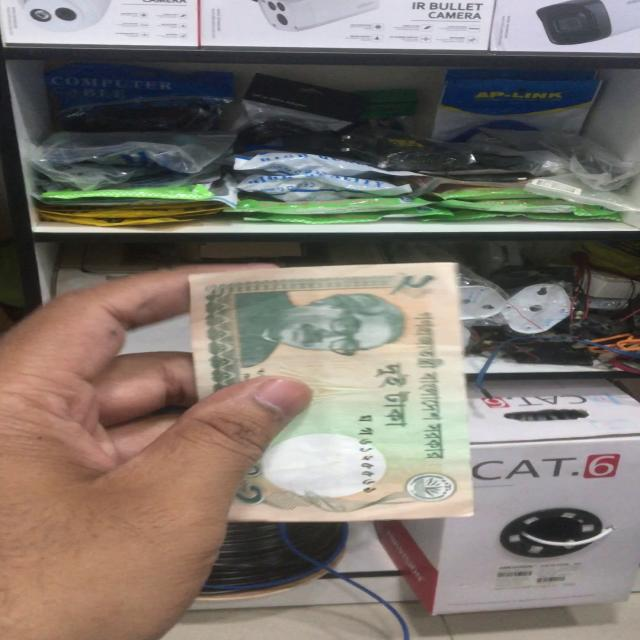Taka: (184, 266, 484, 522)
